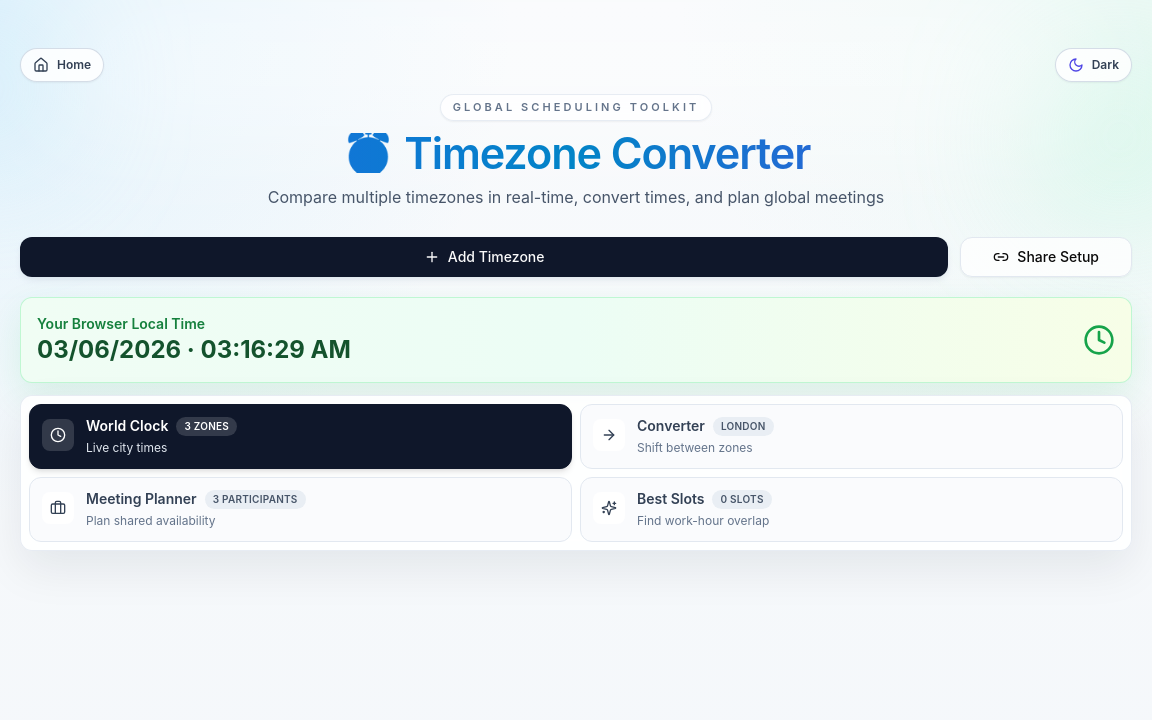
it: TimezoneConverter Component - Hardcoded Data Version › opens timezone search dialog when Add Timezone is clicked
Click the button "Add Timezone".
click(484, 256)  # box [20,236,948,276]
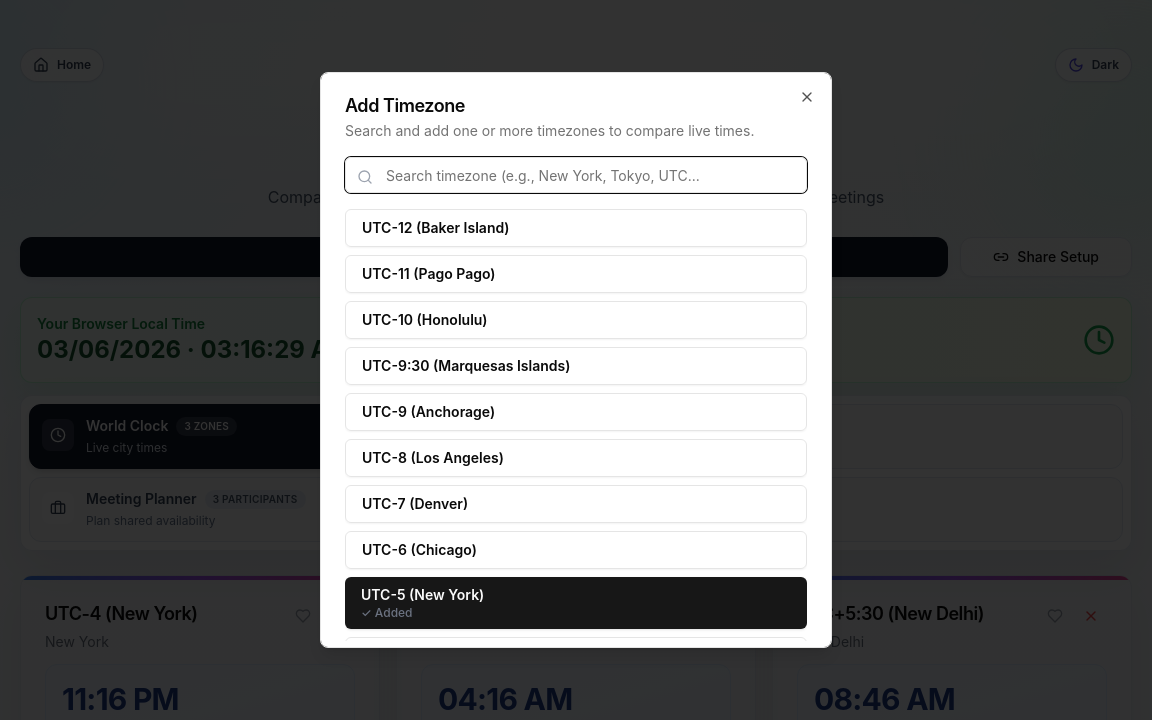
Expected: the field with placeholder "Search timezone (e.g., New York, Tokyo, UTC..." is shown, [345,157,807,193]
